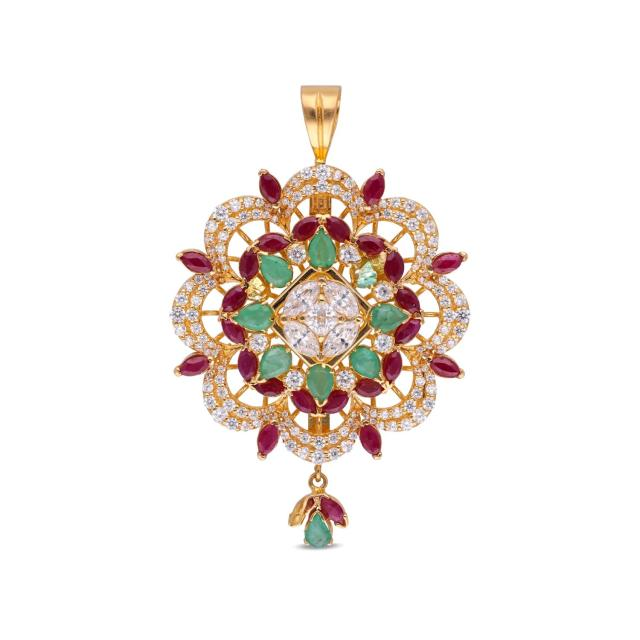missing gem: (352, 253, 385, 287), (247, 280, 267, 300)
